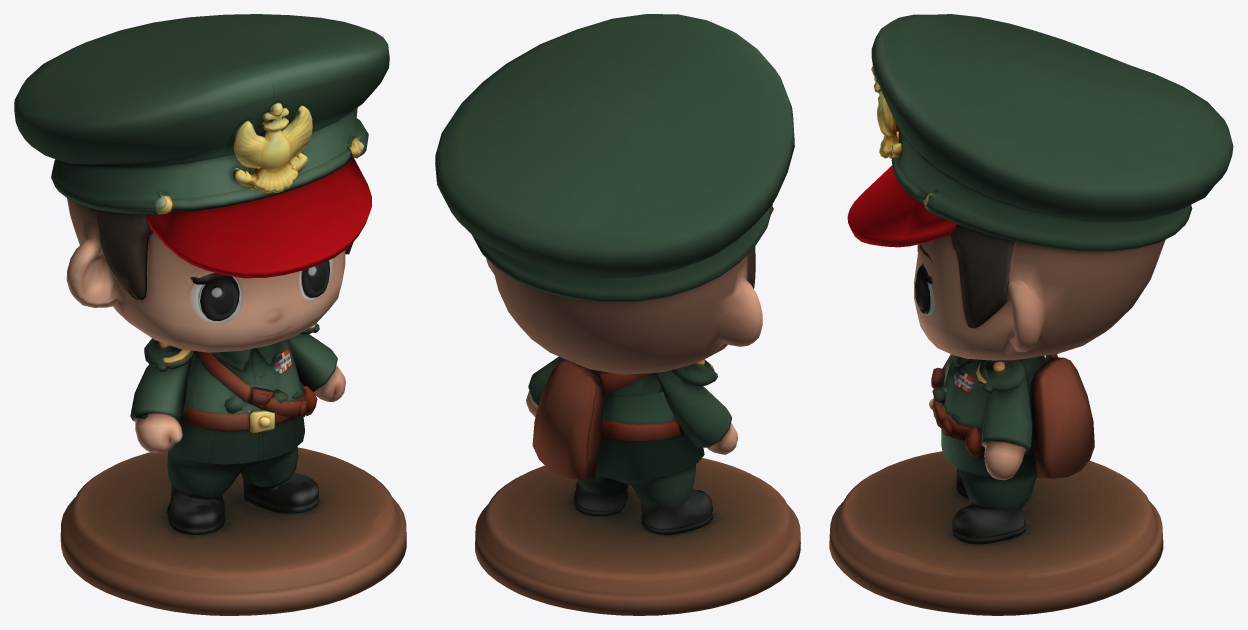
The model's file is indo-king.glb.
3 views of the same model, side by side, from view 1: azimuth 30°, elevation 25°; view 2: azimuth 150°, elevation 25°; view 3: azimuth 270°, elevation 25° (orthographic). The views are drawn at different scales.
Parts seen in each view (by area): view 1: tripo_node_472c159a-b106-4028-b22f-1136ef50dedc; view 2: tripo_node_472c159a-b106-4028-b22f-1136ef50dedc; view 3: tripo_node_472c159a-b106-4028-b22f-1136ef50dedc.
Part boxes in pixels (x1,y1,x2,y2): tripo_node_472c159a-b106-4028-b22f-1136ef50dedc: [14, 14, 406, 615]; tripo_node_472c159a-b106-4028-b22f-1136ef50dedc: [435, 14, 800, 615]; tripo_node_472c159a-b106-4028-b22f-1136ef50dedc: [829, 14, 1233, 615].
Size of the model in its own units: 0.6597 by 0.9995 by 0.7271.
Materials: 1 (1 with a texture image).
